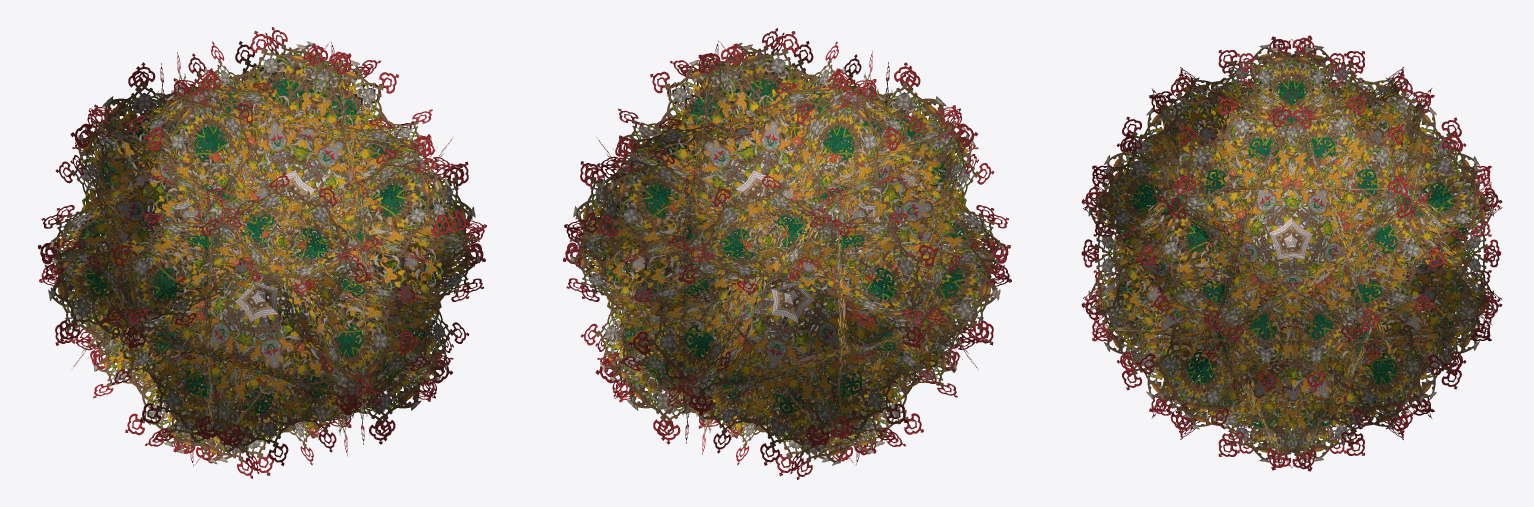
File: TruncatedGreatIcosahedron7.gltf
The picture shows the model from 3 angles, left to right: view 1: azimuth 30°, elevation 25°; view 2: azimuth 150°, elevation 25°; view 3: azimuth 270°, elevation 25°; orthographic projection. The views are drawn at different scales.
Parts seen in each view (by area): view 1: TruncatedGreatIcosahedron; view 2: TruncatedGreatIcosahedron; view 3: TruncatedGreatIcosahedron.
Part boxes in pixels (x1,y1,x2,y2): TruncatedGreatIcosahedron: [38, 27, 486, 478]; TruncatedGreatIcosahedron: [563, 28, 1011, 479]; TruncatedGreatIcosahedron: [1081, 35, 1502, 471].
Size of the model in its own units: 2 by 2 by 2.
1 material, 1 textured.
